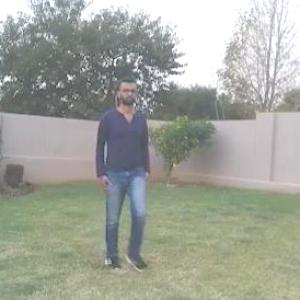follow: (100, 80, 151, 254)
